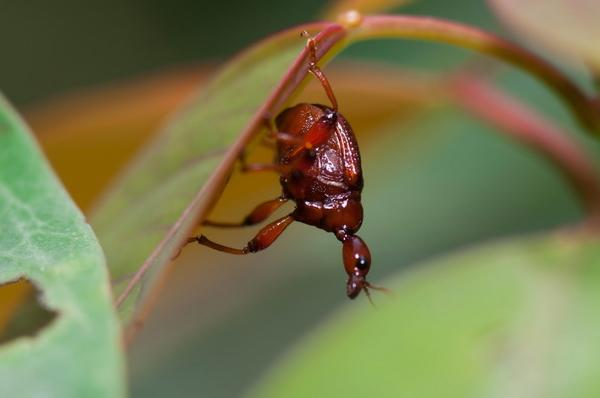Curculionidae: (172, 30, 389, 308)
